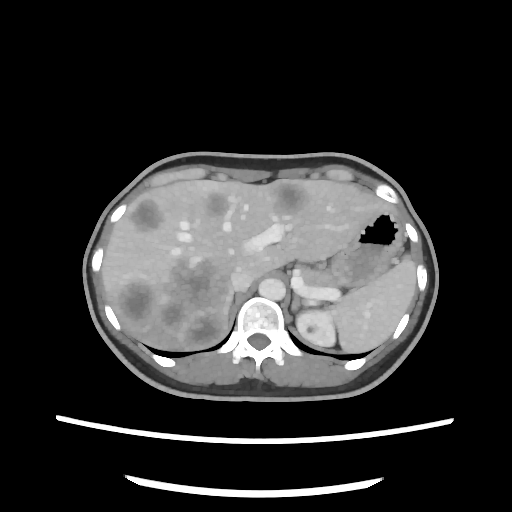Lesion: (107, 248, 239, 355), (304, 322, 318, 337)
